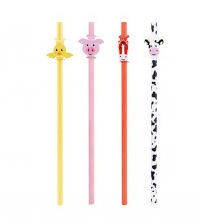drinking_straw: (43, 15, 74, 209), (77, 16, 107, 208), (141, 17, 167, 209), (113, 16, 136, 209)
